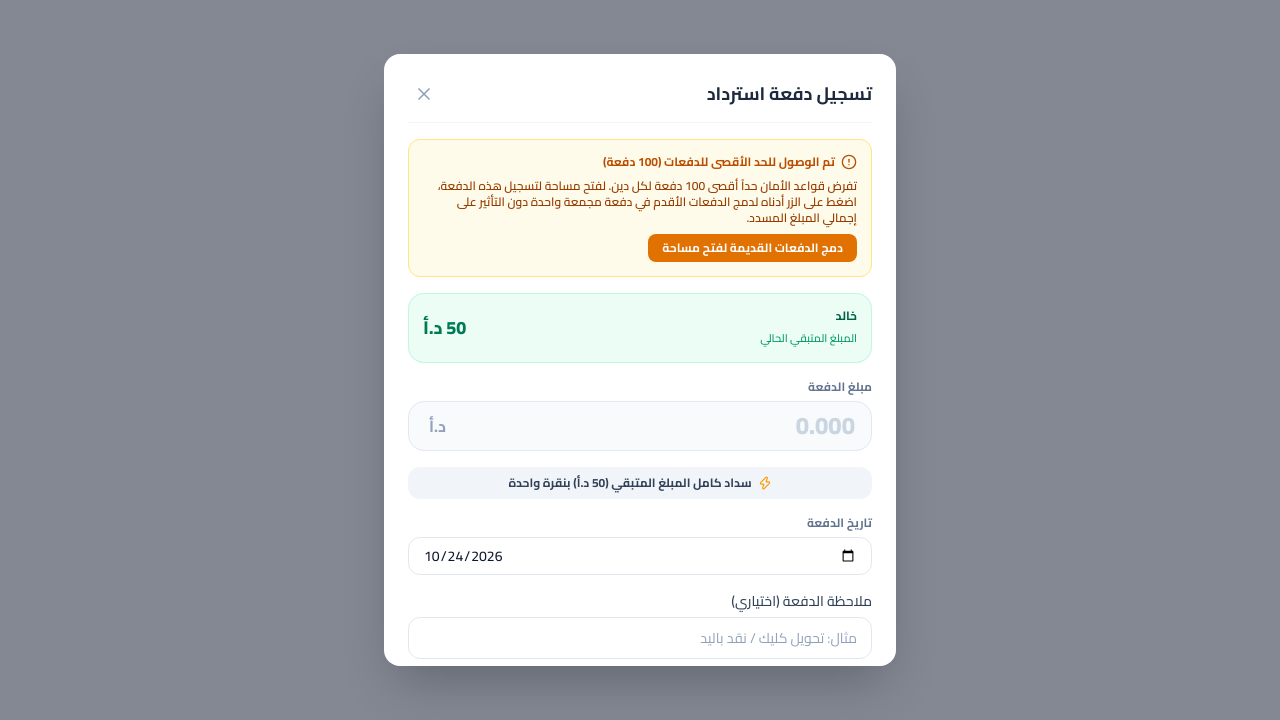
Test: PaymentModal Component › disables submit button and shows warning banner when 100 payments limit is reached
This screenshot has width=1280, height=720.
Expected: the text "تم الوصول للحد الأقصى للدفعات (100 دفعة)" is shown, x1=603 y1=154 x2=835 y2=170
Expected: the text "تفرض قواعد الأمان حداً أقصى 100 دفعة لكل دين" is shown, x1=438 y1=174 x2=857 y2=229
Click the button "دمج الدفعات القديمة لفتح مساحة" at (753, 248), box x1=648 y1=234 x2=857 y2=262
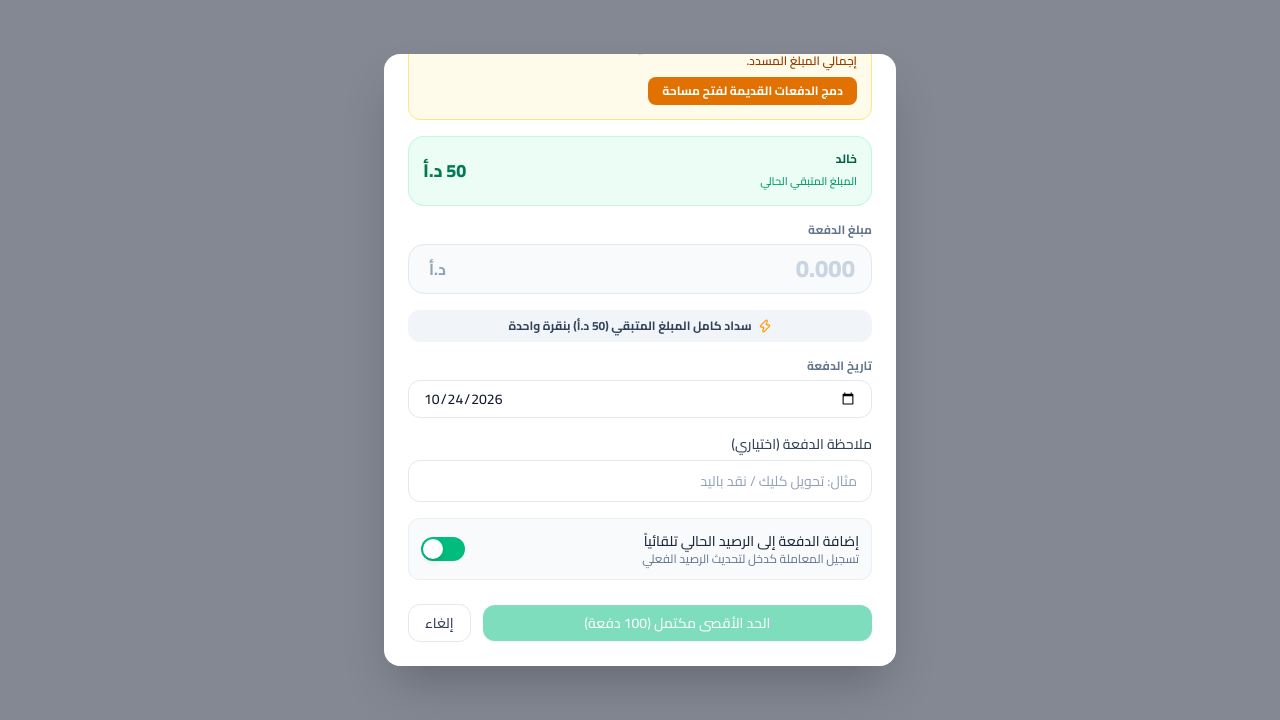
Expected: the button "الحد الأقصى مكتمل (100 دفعة)" is disabled, x1=483 y1=605 x2=872 y2=641
